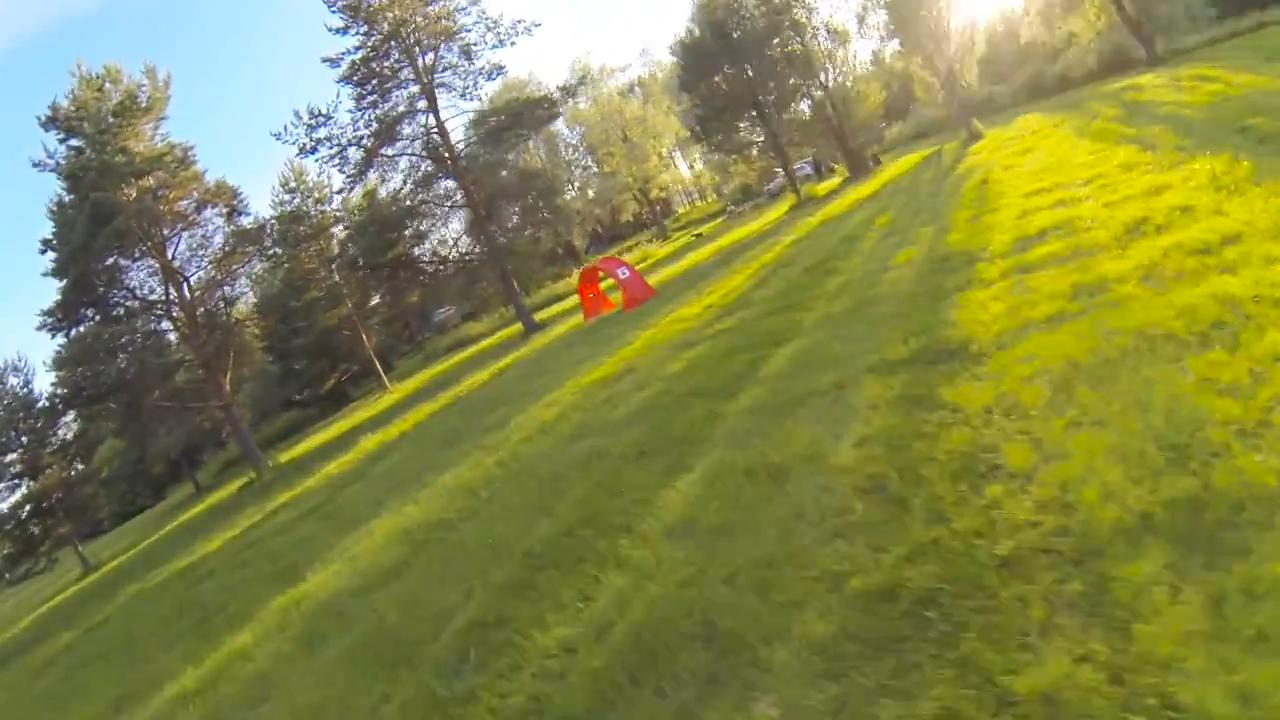gate: (570, 255, 659, 323)
